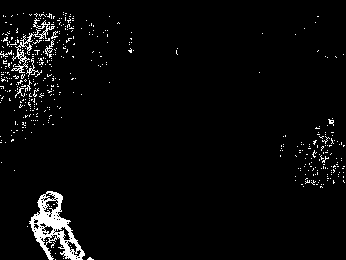person: (28, 189, 94, 260)
